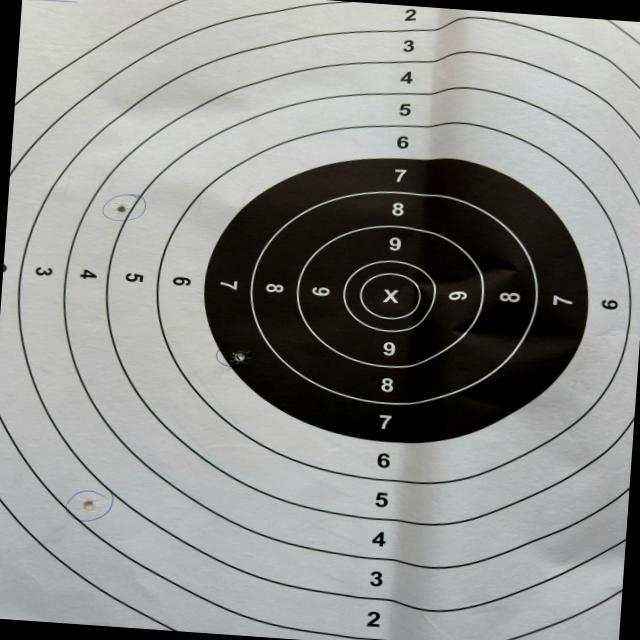bullet: (230, 350, 251, 366), (81, 499, 92, 509), (114, 204, 125, 213)
target: (0, 0, 640, 640)
